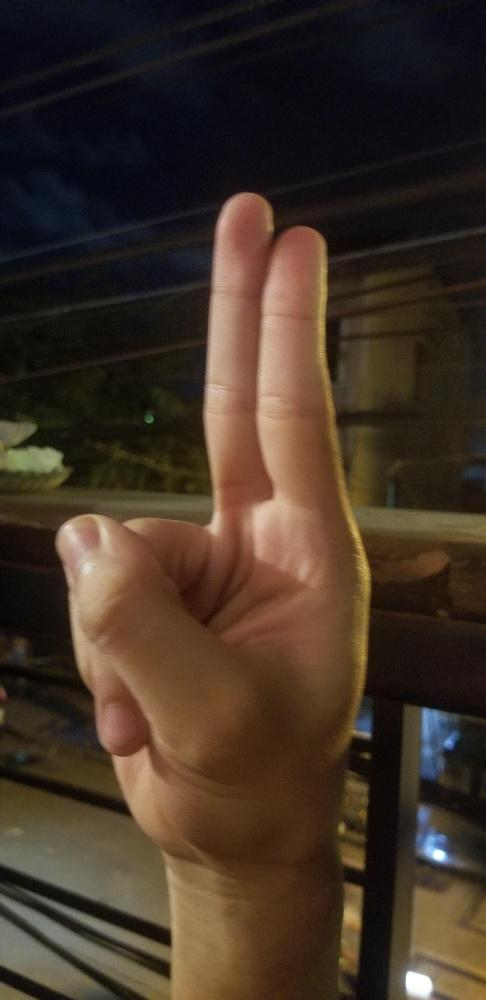u: (51, 186, 373, 879)
